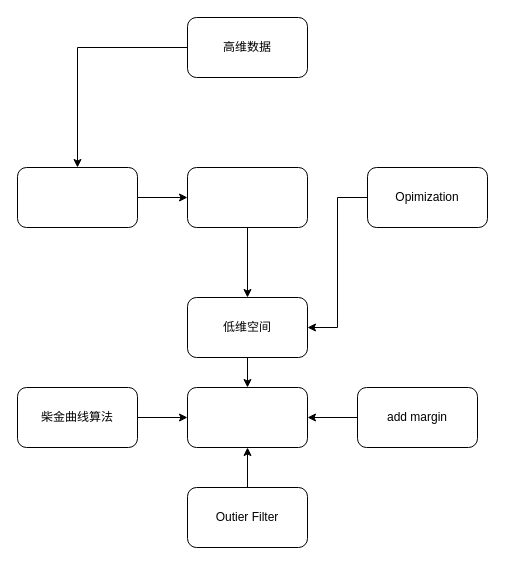
Image size: 505x565. Some labels were removed from this diagram. Each missing label, with the box of its shape:
Alpha Shape=》Contour: (186, 386, 308, 448)
Birtch聚类: (16, 166, 138, 228)
UMAP: (186, 166, 308, 228)
